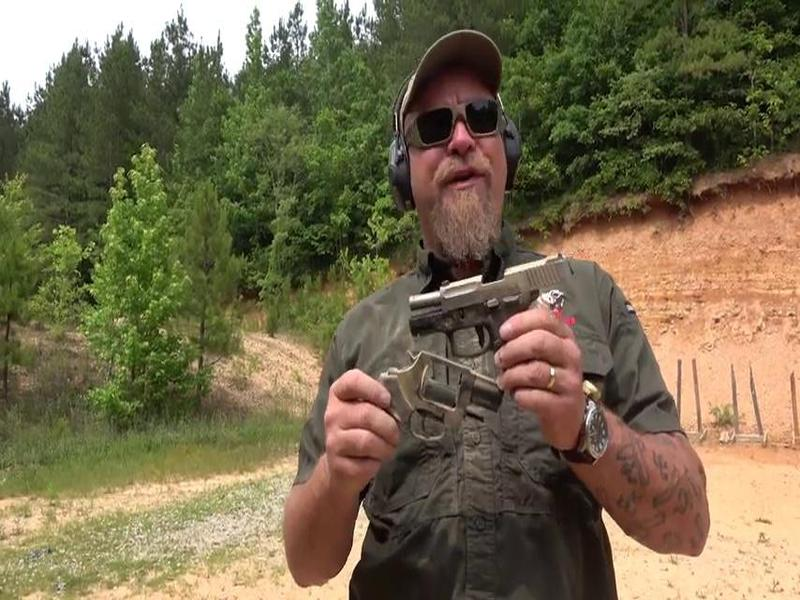Pistola: (404, 246, 584, 363)
Revolver: (357, 332, 508, 454)
